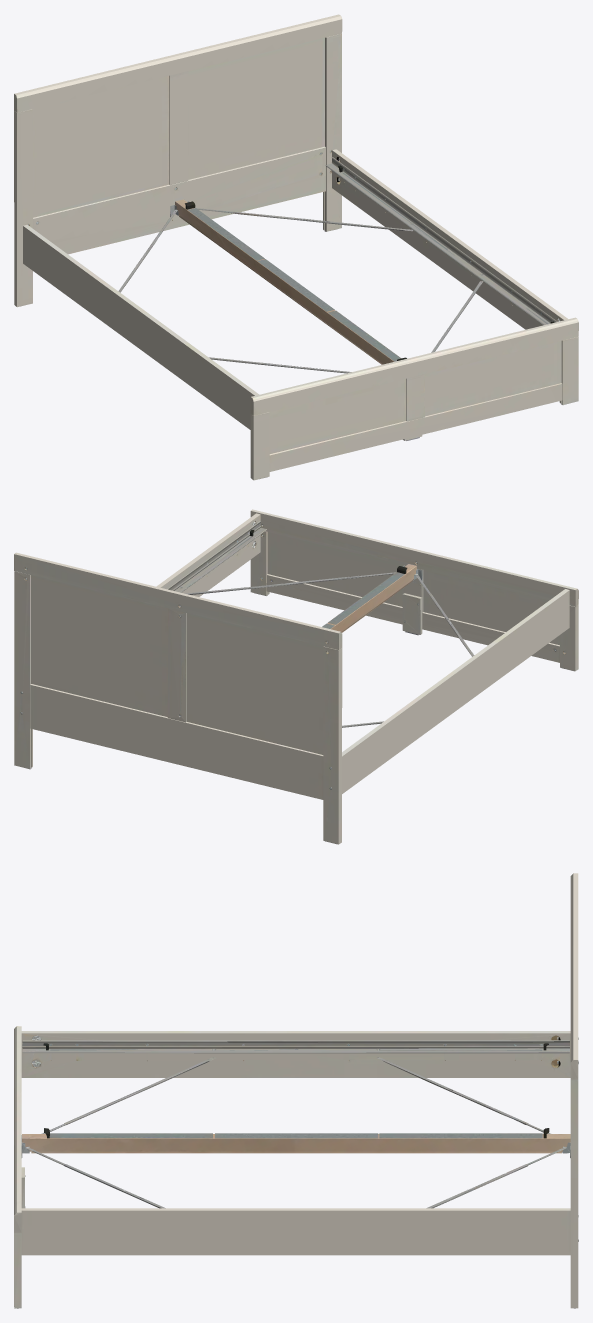
The picture shows the model from 3 angles, top to bottom: view 1: azimuth 30°, elevation 25°; view 2: azimuth 150°, elevation 25°; view 3: azimuth 270°, elevation 25°; orthographic projection. The views are drawn at different scales.
Parts seen in each view (by area): view 1: resizedAsset; view 2: resizedAsset; view 3: resizedAsset.
Part boxes in pixels (<box>): resizedAsset: <box>14,14,578,480</box>; resizedAsset: <box>14,509,578,844</box>; resizedAsset: <box>14,873,578,1308</box>.
Size of the model in its own units: 1.62 by 1.01 by 2.07.
1 material, 1 textured.
